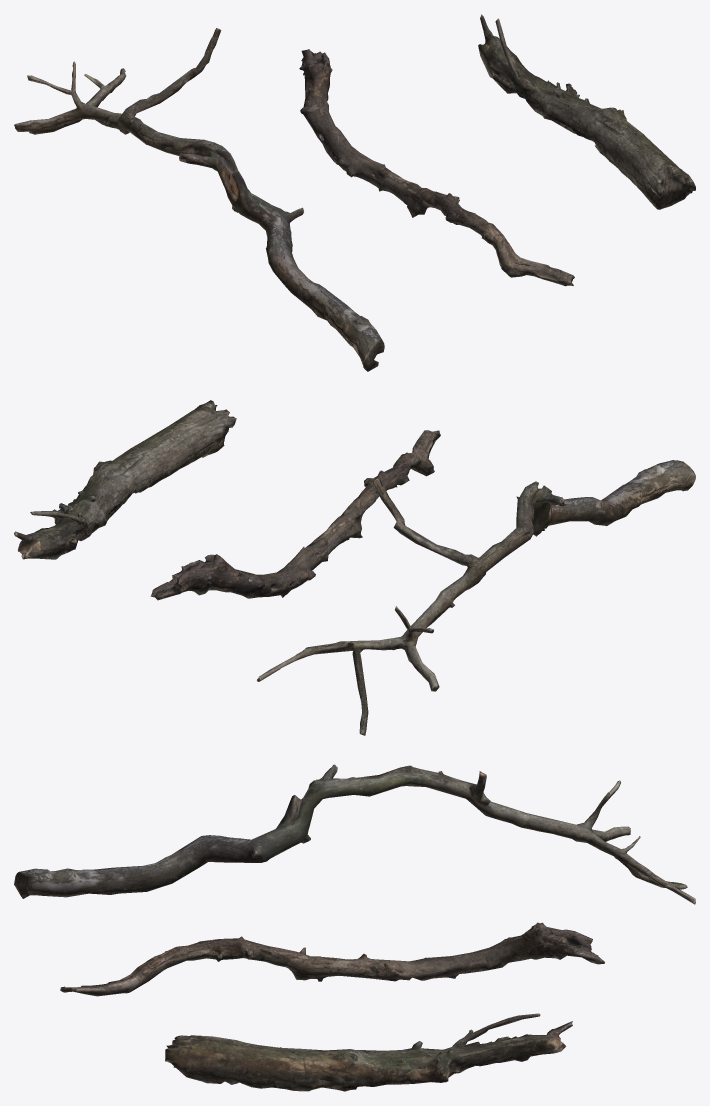
The model's file is dry_branches_medium_01_lod.glb.
3 views of the same model, one above another, from view 1: azimuth 30°, elevation 25°; view 2: azimuth 150°, elevation 25°; view 3: azimuth 270°, elevation 25° (orthographic). The views are drawn at different scales.
Parts seen in each view (by area): view 1: dry_branches_medium_01_a, dry_branches_medium_01_c, dry_branches_medium_01_b; view 2: dry_branches_medium_01_a, dry_branches_medium_01_c, dry_branches_medium_01_b; view 3: dry_branches_medium_01_a, dry_branches_medium_01_c, dry_branches_medium_01_b.
Part boxes in pixels (x1=…): dry_branches_medium_01_a: x1=14, y1=28, x2=384, y2=371; dry_branches_medium_01_c: x1=478, y1=14, x2=695, y2=209; dry_branches_medium_01_b: x1=299, y1=49, x2=574, y2=286; dry_branches_medium_01_a: x1=257, y1=460, x2=695, y2=735; dry_branches_medium_01_c: x1=14, y1=400, x2=236, y2=559; dry_branches_medium_01_b: x1=150, y1=430, x2=440, y2=600; dry_branches_medium_01_a: x1=14, y1=764, x2=695, y2=904; dry_branches_medium_01_c: x1=165, y1=1013, x2=572, y2=1091; dry_branches_medium_01_b: x1=60, y1=922, x2=604, y2=996.
Size of the model in its own units: 1.06 by 0.3401 by 1.3.
Materials: 1 (1 with a texture image).
